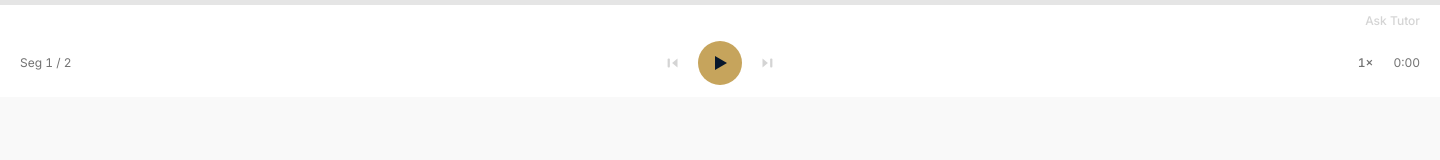
Test: PlayerControls — speed control (default-playback-speed-0.8x) › AC3: cycling speed steps through the real rates 0.8 -> 1.0 -> 1.2 -> 1.6 -> 0.6 -> 0.8, with labels 1x -> 1.25x -> 1.5x -> 2x -> 0.75x -> 1x
Click the button named "Playback speed": (1365, 63) [1349,55,1381,71]
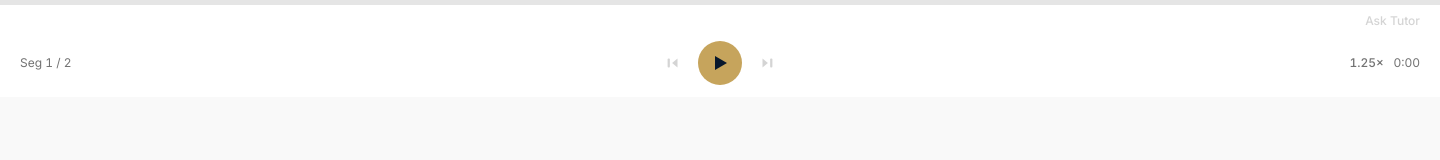
Click the button "1.25×": (1365, 63) [1349,55,1381,71]
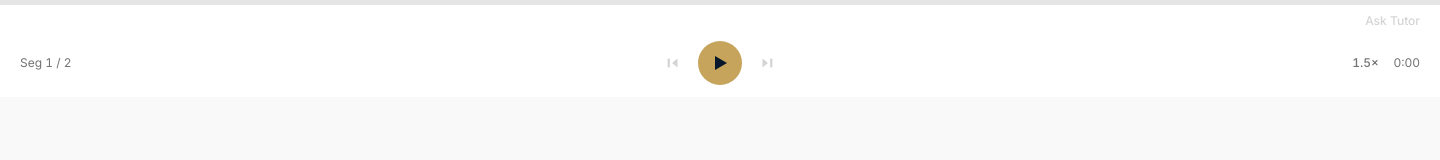
Click the button "1.5×": (1365, 63) [1349,55,1381,71]
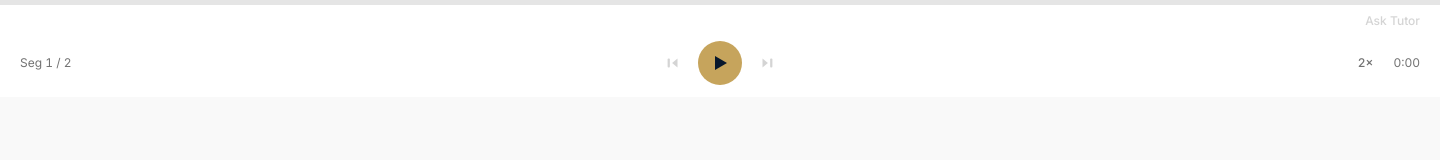
Click the button "2×": (1365, 63) [1349,55,1381,71]
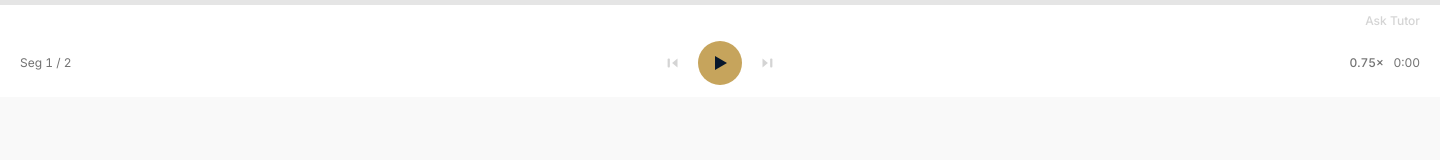
Click the button "0.75×": (1365, 63) [1349,55,1381,71]
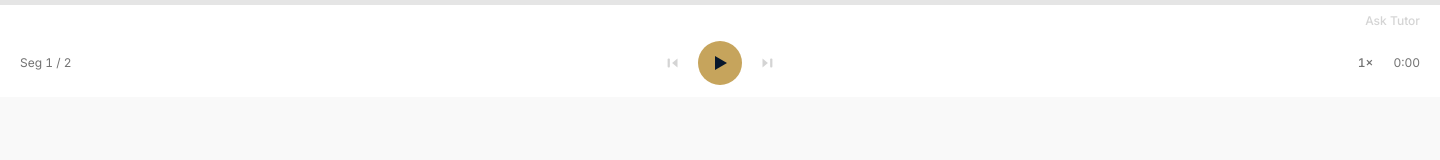
Expected: the button named "Playback speed 1×" is shown, [1349,55,1381,71]
